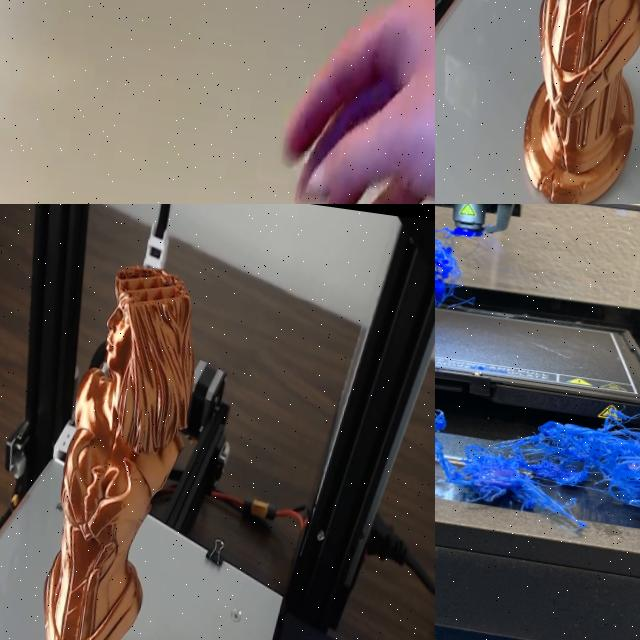spaghetti: (435, 409, 640, 518), (435, 227, 484, 309)
